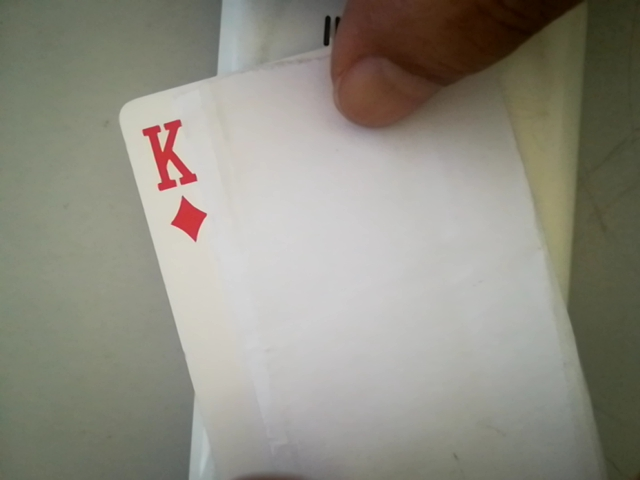fk k: (133, 113, 214, 244)
